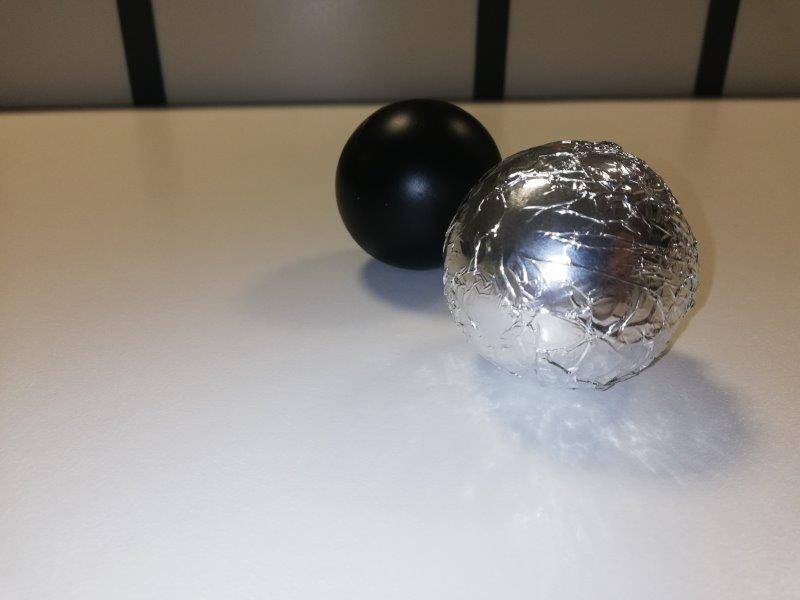bianca: (438, 140, 699, 390)
nera: (332, 99, 500, 272)
